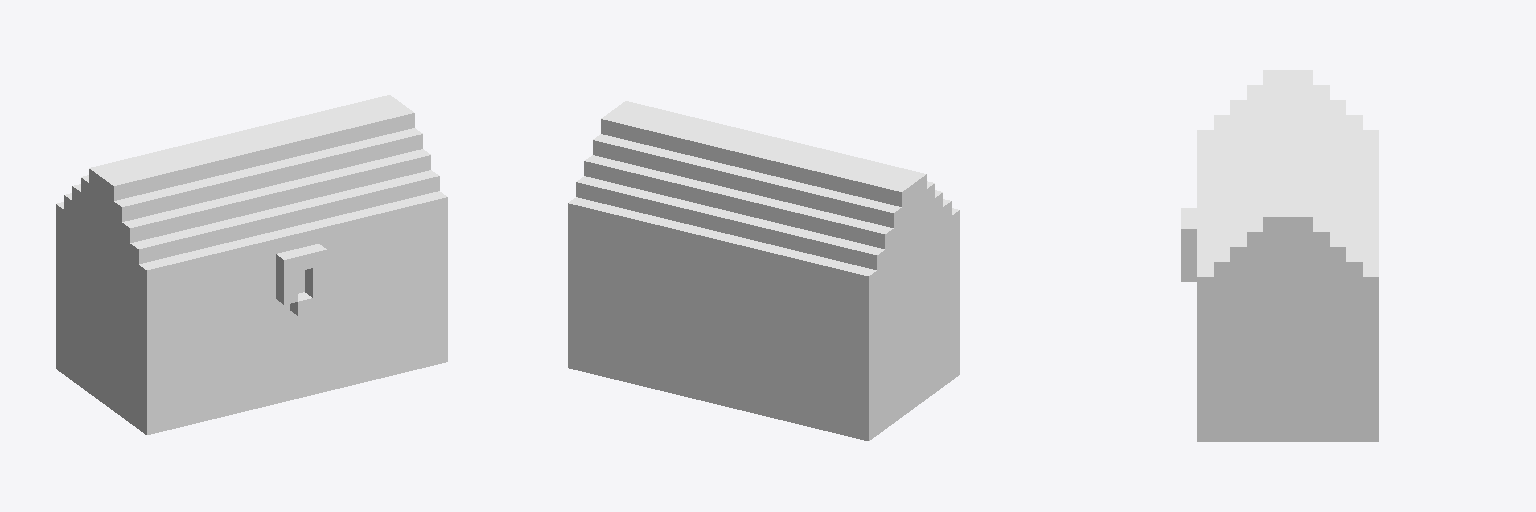
File: ChestProp.obj
The picture shows the model from 3 angles: view 1: azimuth 30°, elevation 25°; view 2: azimuth 150°, elevation 25°; view 3: azimuth 270°, elevation 25°; orthographic projection.
Visible parts, largest first — view 1: object 1; view 2: object 1; view 3: object 1.
Boxes of the visible parts, x1=… form: object 1: x1=56, y1=95, x2=447, y2=434; object 1: x1=568, y1=101, x2=959, y2=440; object 1: x1=1181, y1=70, x2=1378, y2=441.
Size of the model in its own units: 2.1 by 1.5 by 1.2.